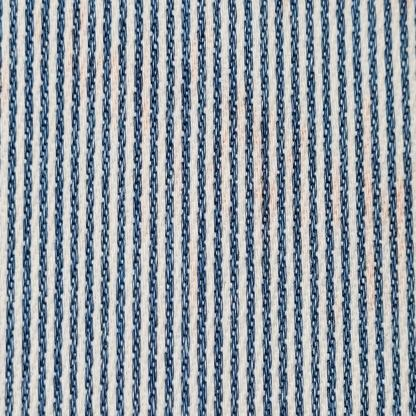spot: (90, 20, 414, 310)
